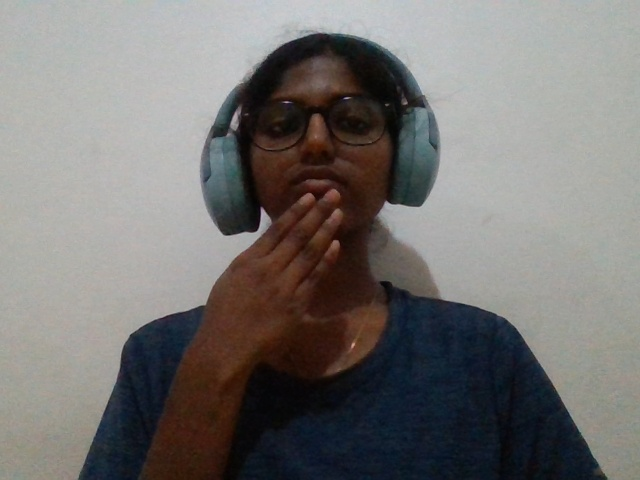Thanks: (166, 182, 403, 392)
